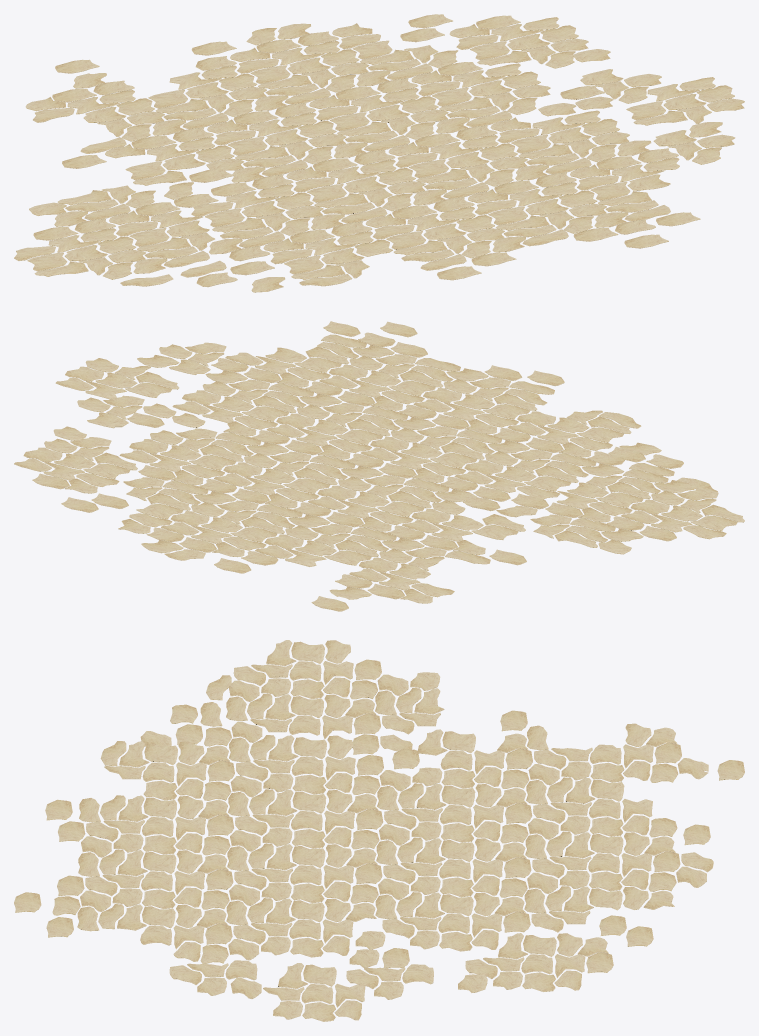
File: SueloPiedraZona2.fbx
3 views of the same model, one above another, from view 1: azimuth 30°, elevation 25°; view 2: azimuth 150°, elevation 25°; view 3: azimuth 270°, elevation 25° (orthographic). The views are drawn at different scales.
Visible parts, largest first — view 1: Cube_025; view 2: Cube_025; view 3: Cube_025.
Part boxes in pixels (bbox=[...]): Cube_025: bbox=[14, 14, 744, 292]; Cube_025: bbox=[14, 321, 744, 611]; Cube_025: bbox=[14, 640, 744, 1021].
Size of the model in its own units: 15256 by 246 by 12377.
